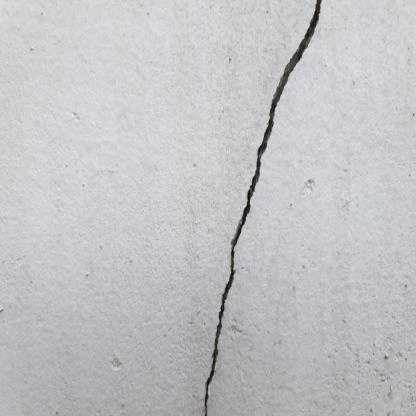crack: (205, 0, 322, 413)
